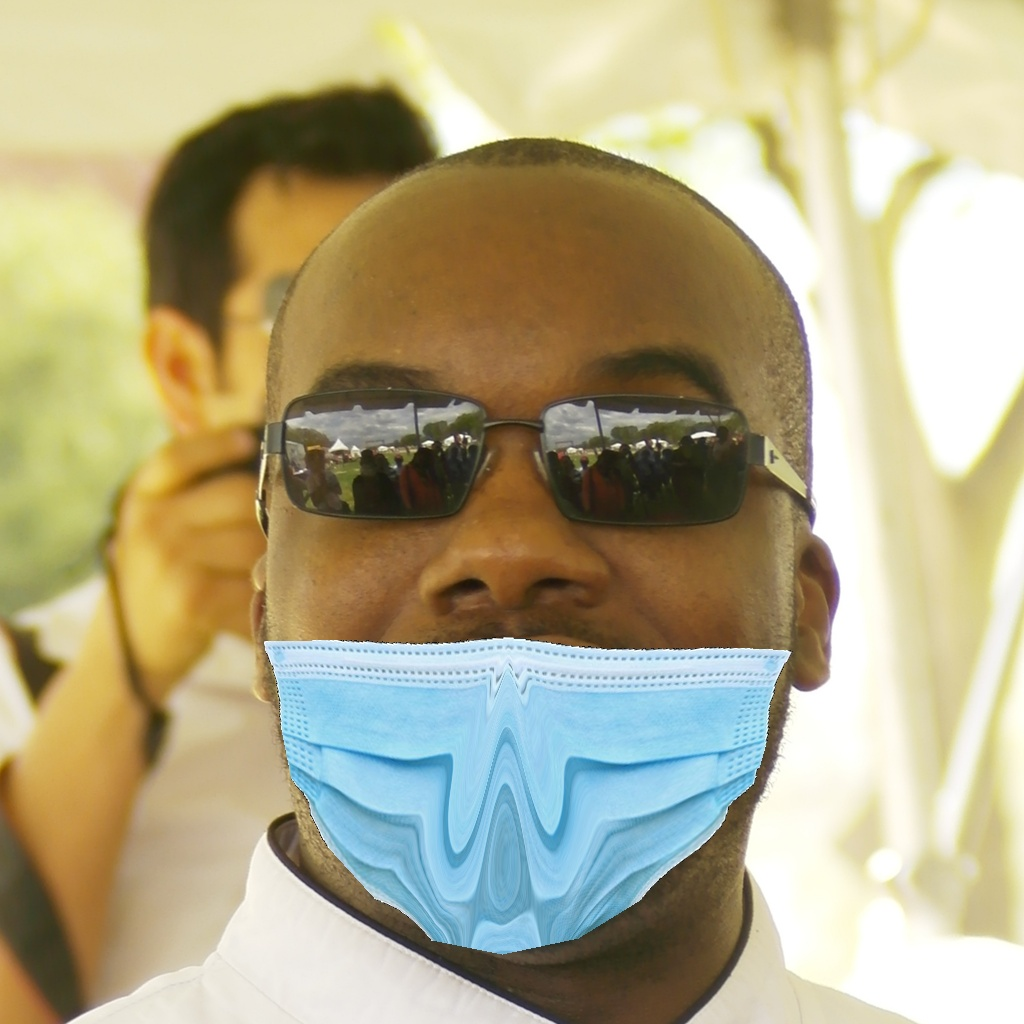mascarilla_mal_puesta: (257, 353, 842, 968)
